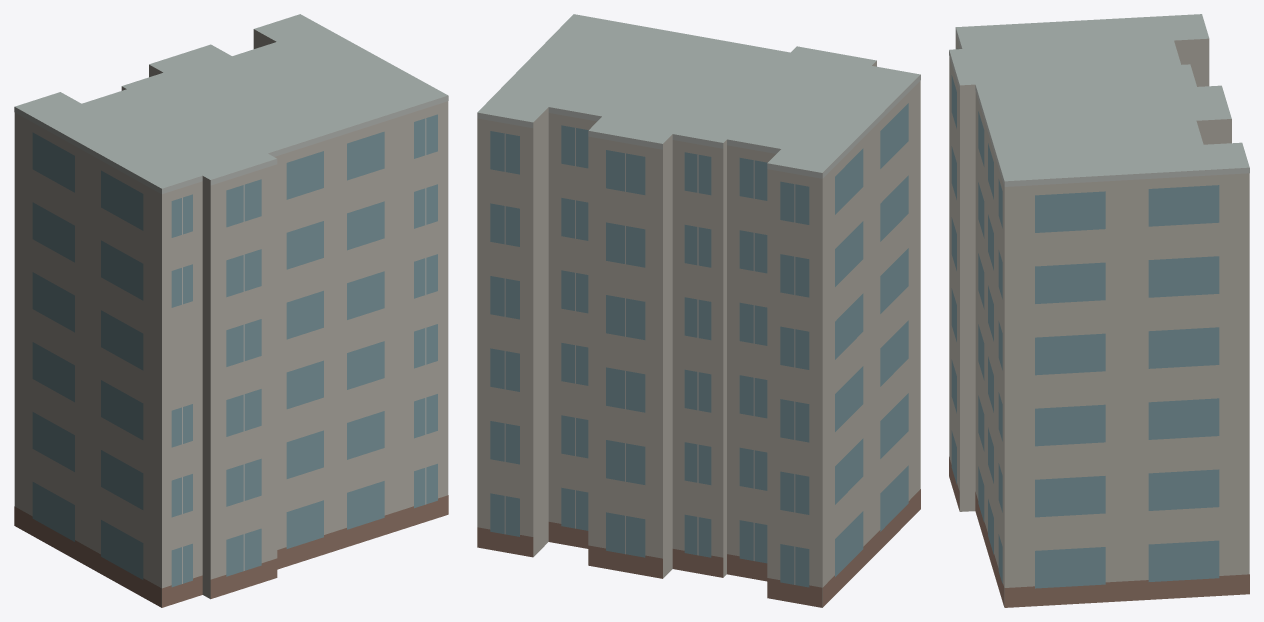
Rendered from survey-upis-32741540.glb.
3 renders of one model, left to right at view 1: azimuth 30°, elevation 25°; view 2: azimuth 150°, elevation 25°; view 3: azimuth 270°, elevation 25°, orthographic. The views are drawn at different scales.
Parts seen in each view (by area): view 1: survey-upis-32741540.tmp; view 2: survey-upis-32741540.tmp; view 3: survey-upis-32741540.tmp.
Part boxes in pixels (box(x1,y1,x2,y2)): survey-upis-32741540.tmp: box(14, 14, 448, 607); survey-upis-32741540.tmp: box(477, 14, 920, 607); survey-upis-32741540.tmp: box(949, 14, 1249, 607).
Bounding box in the file's own units: 15.41 × 18.3 × 11.7.
